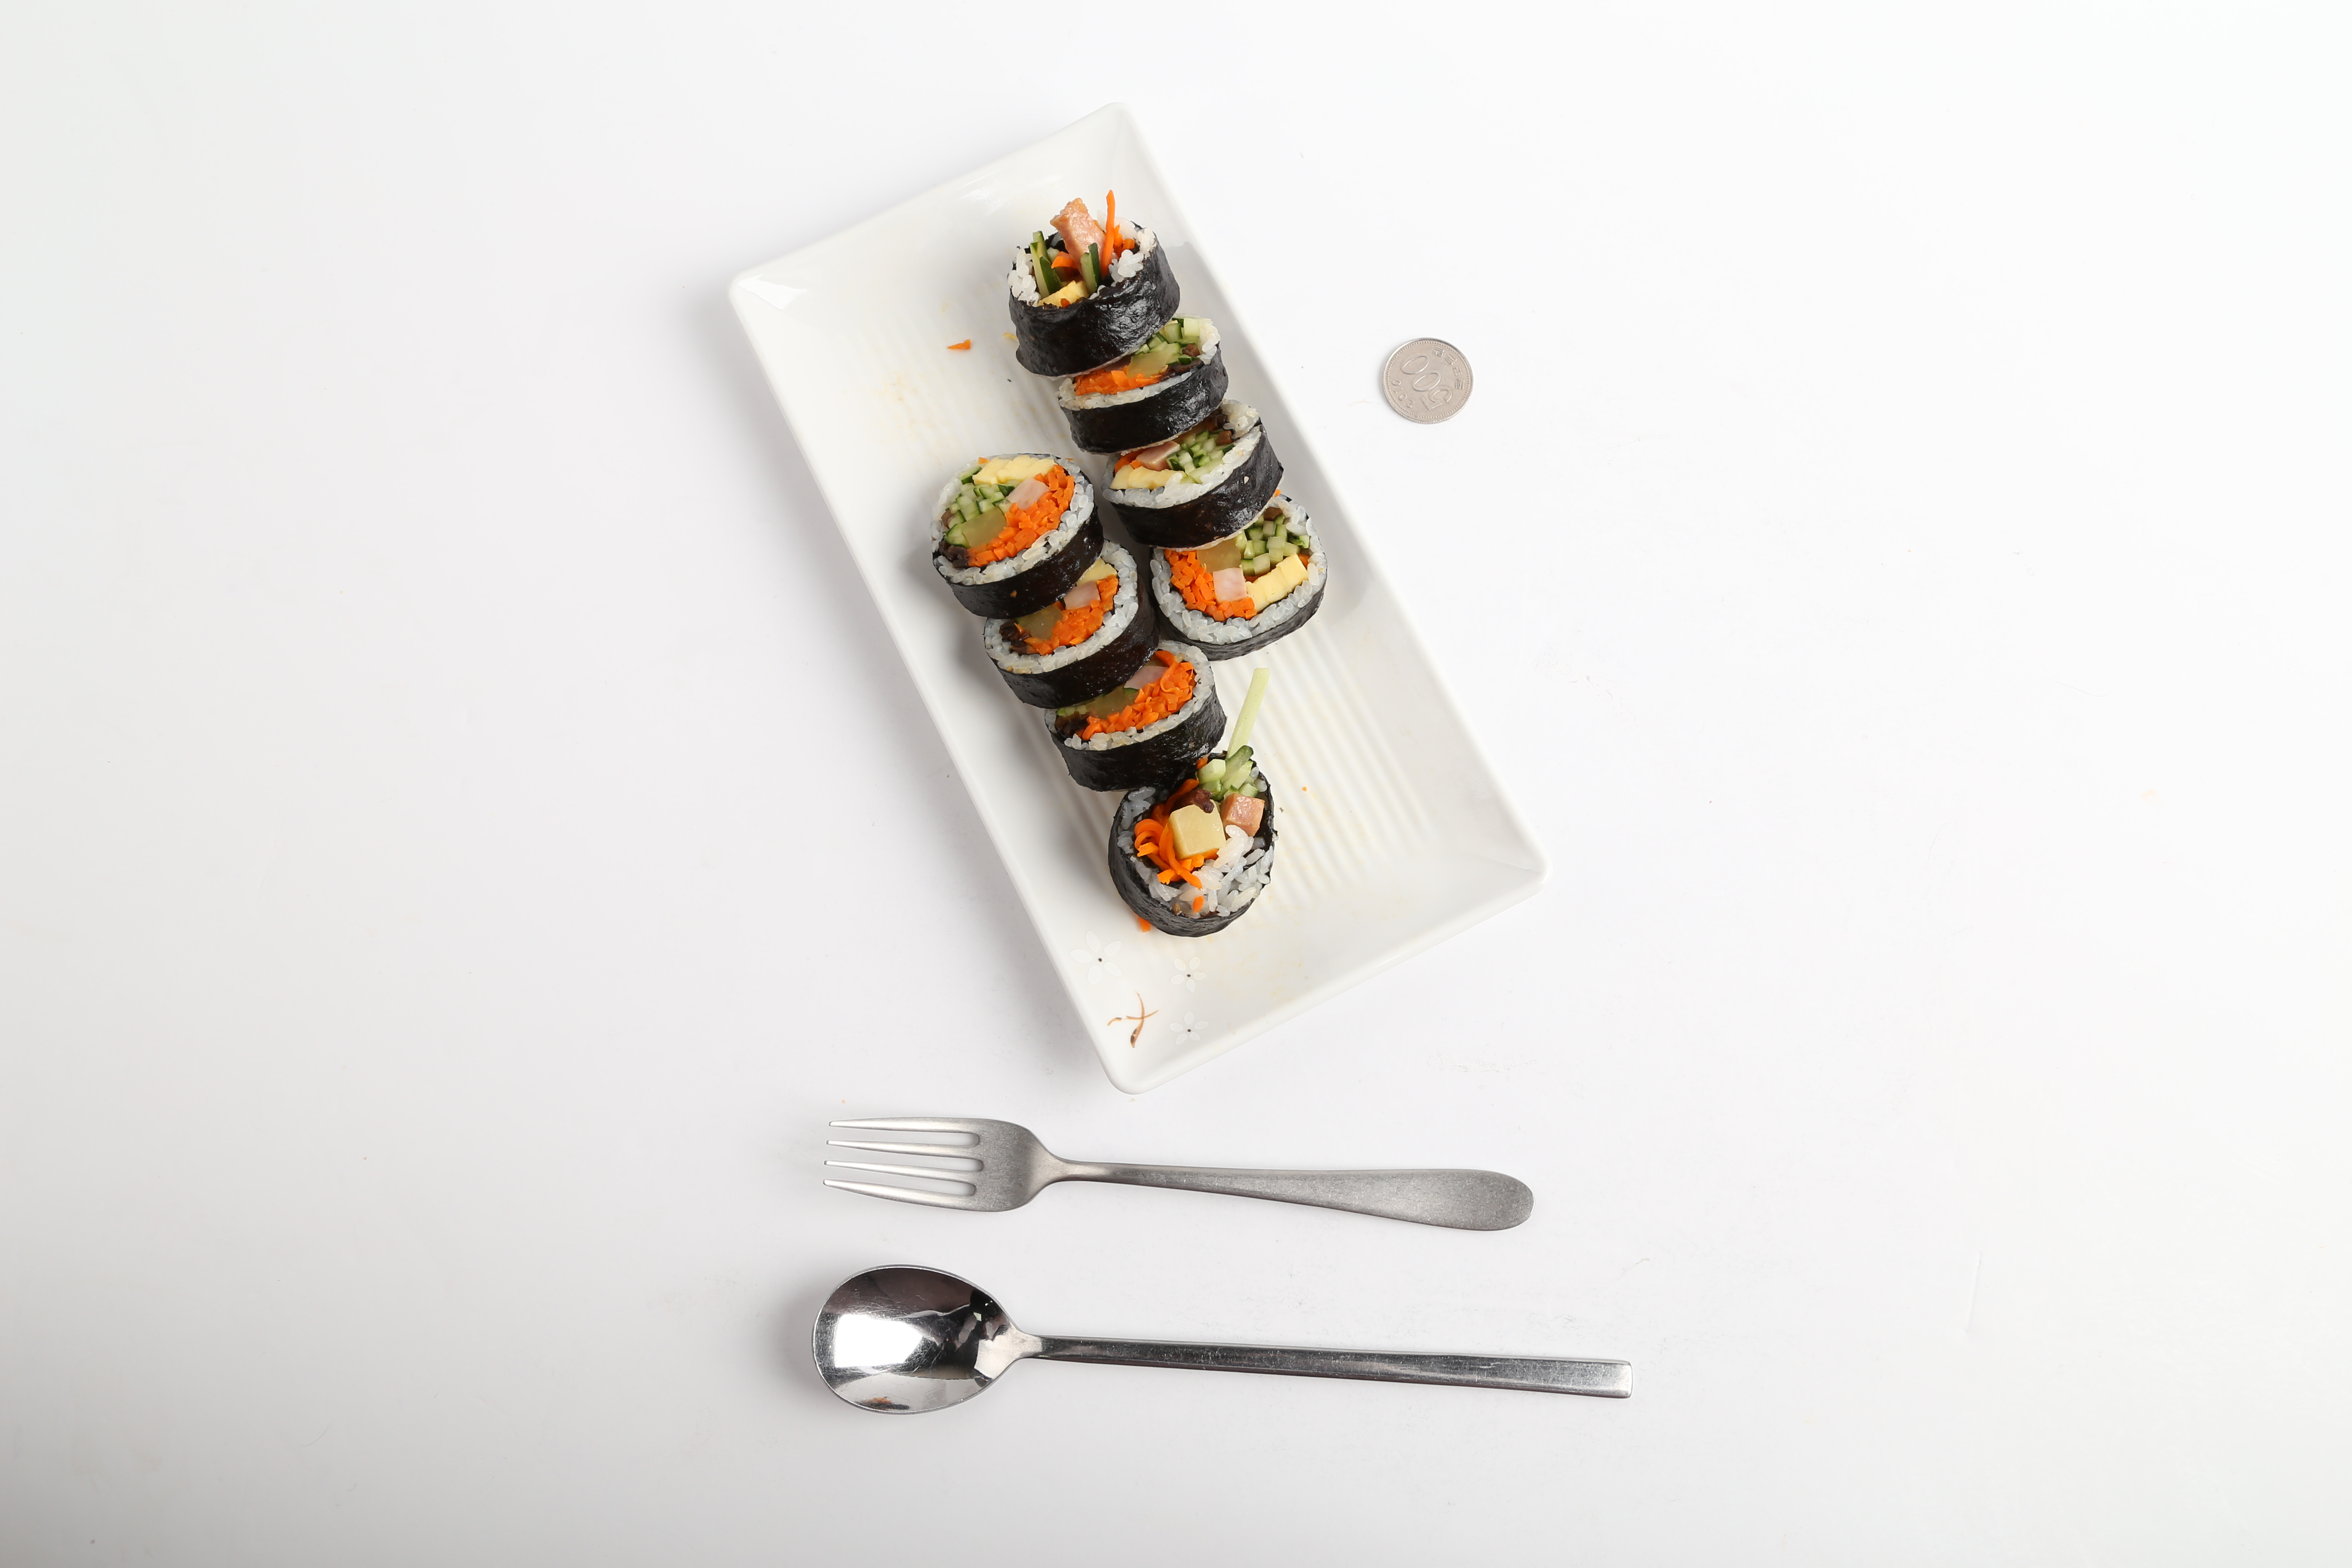dish: (731, 107, 1547, 1092)
ref_coin: (1375, 327, 1477, 432)
ref_fork: (817, 1108, 1134, 1214)
ref_spoon: (808, 1260, 1099, 1423)
김밥: (924, 208, 1330, 934)
